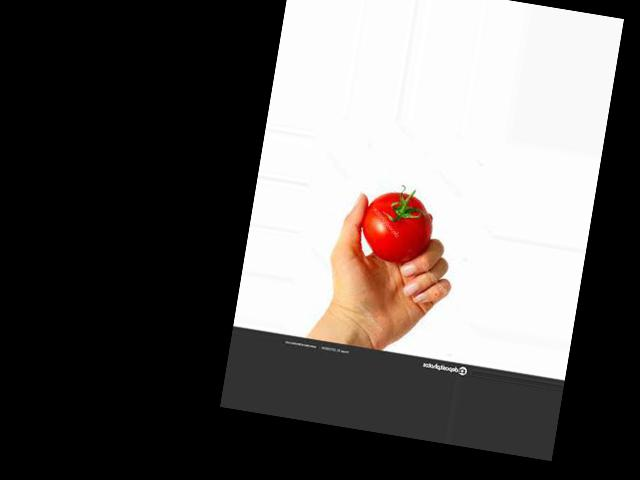tomato: (356, 187, 435, 268)
